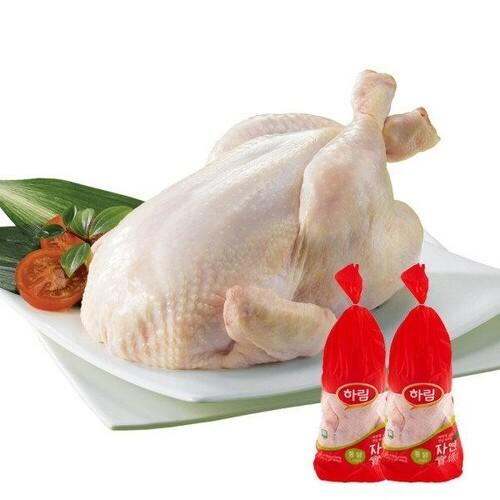chicken: (65, 54, 342, 288)
